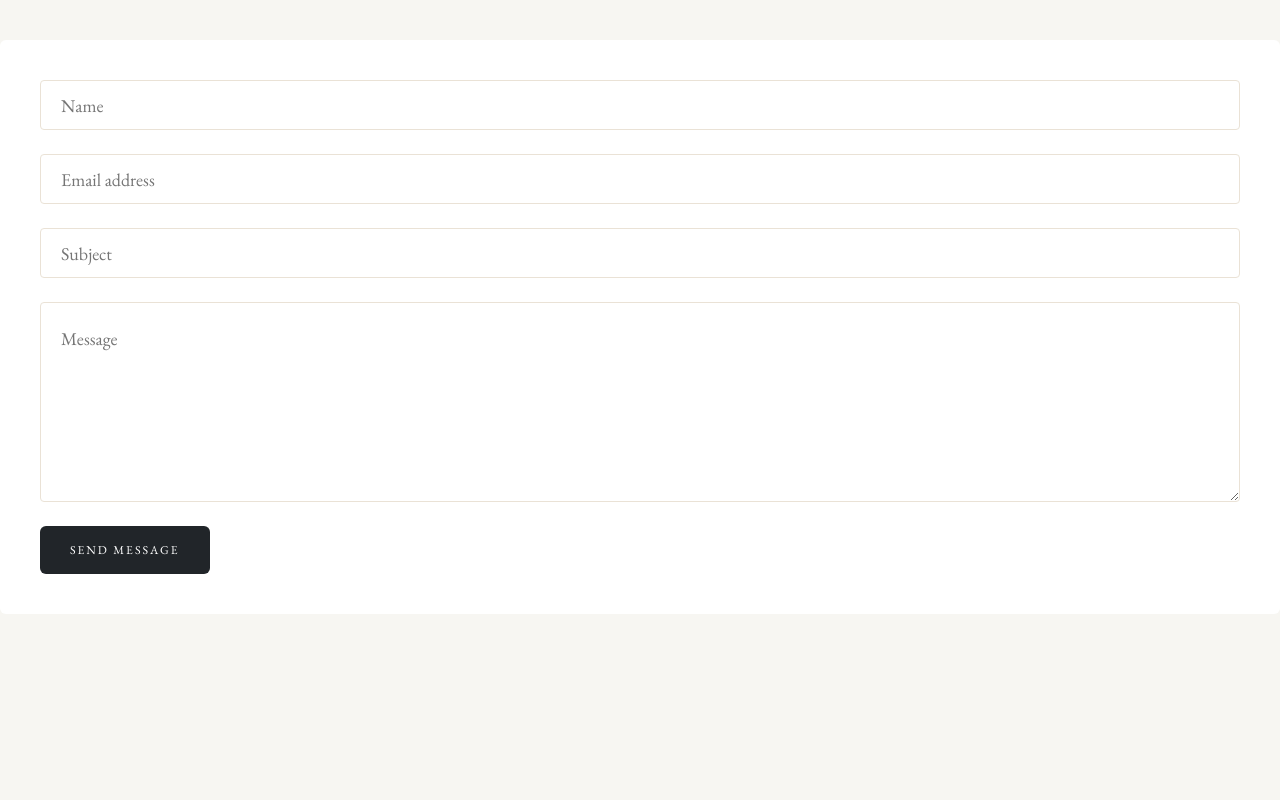
Test: ContactForm component › shows success notification for valid form submission
The image size is (1280, 800).
Step 1. Type "John Doe" into the field labelled "Name" → coordinates (640, 105), box [40,80,1240,130]
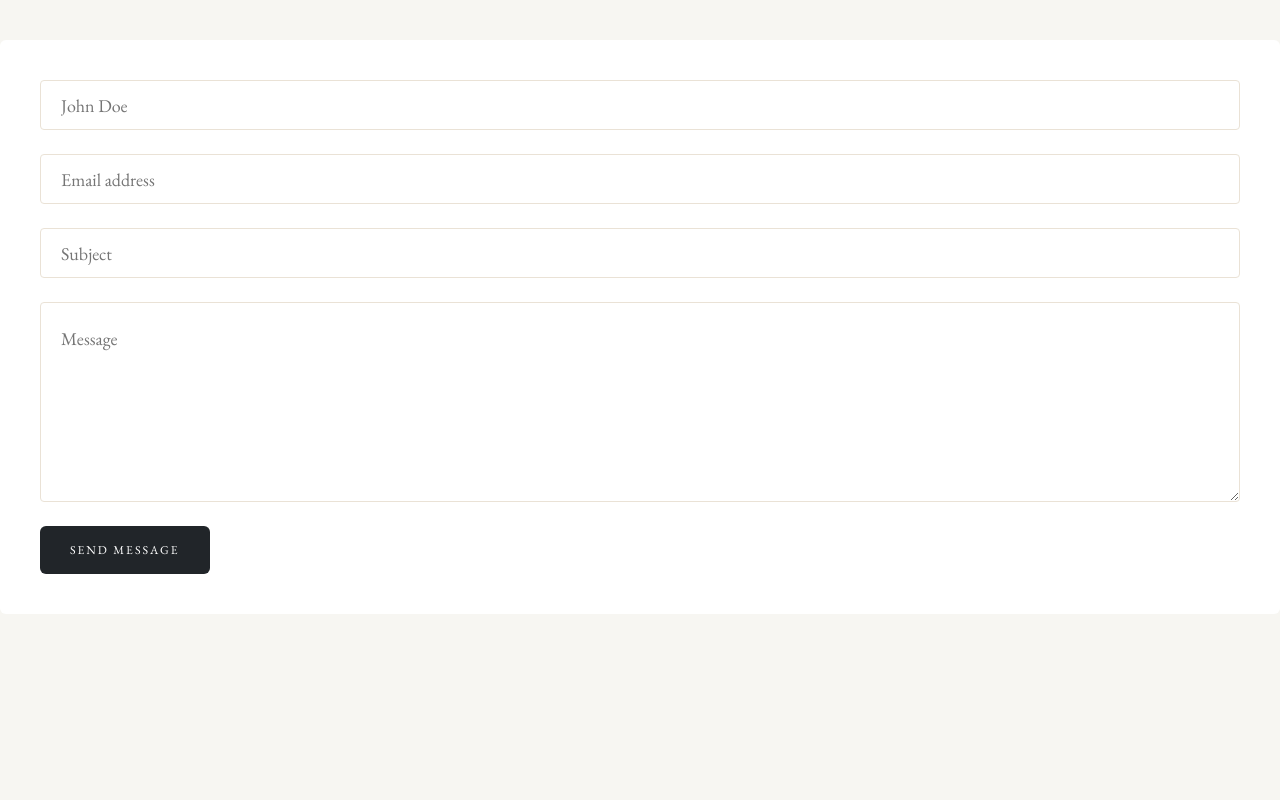
Step 2. Type "test@example.com" into the field labelled "Email address" → coordinates (640, 179), box [40,154,1240,204]
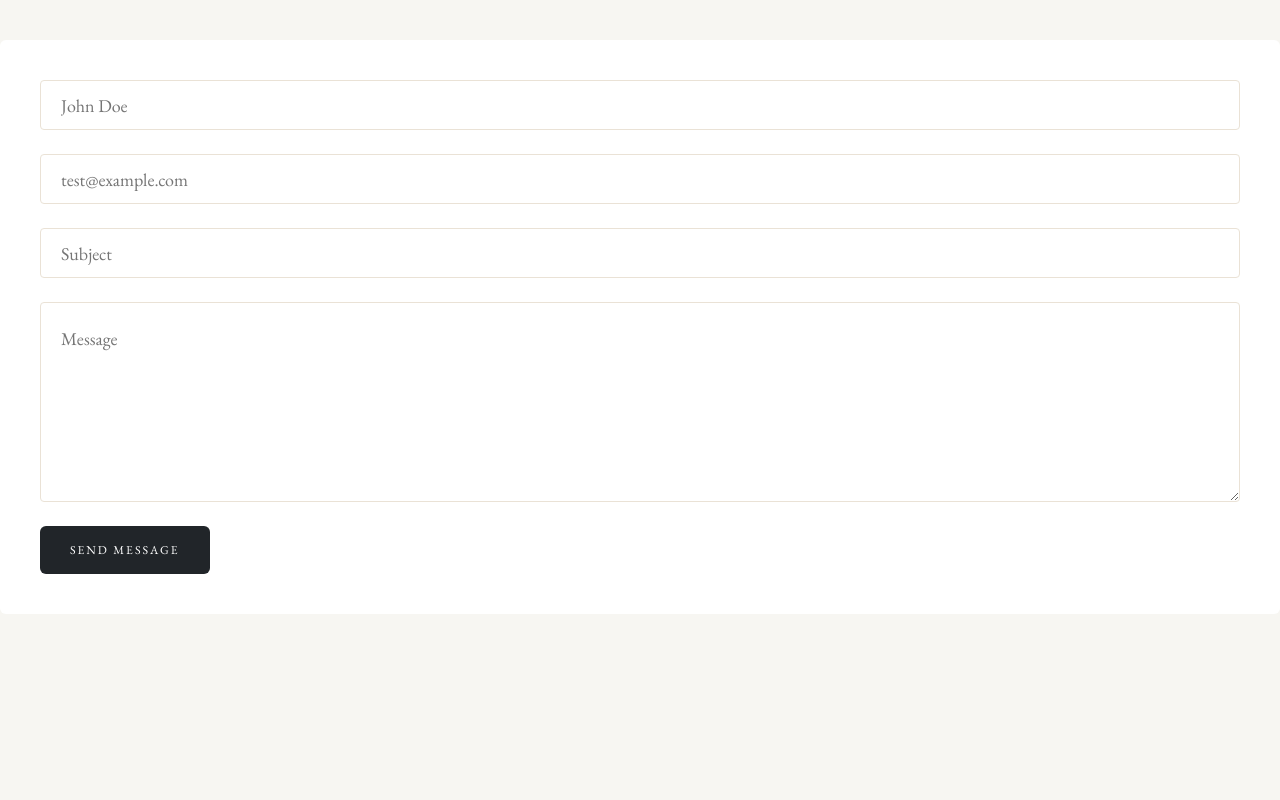
Step 3. Type "Test subject" into the field labelled "Subject" → coordinates (640, 253), box [40,228,1240,278]
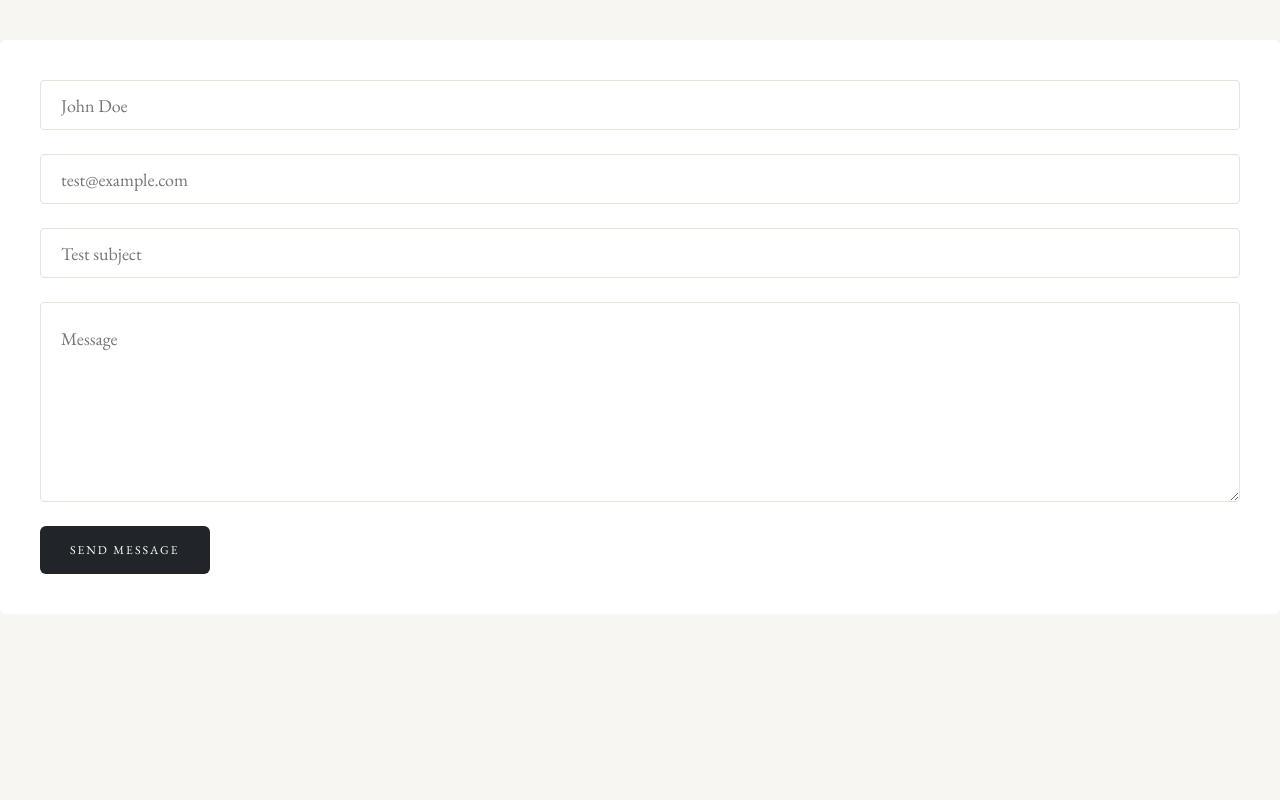
Step 4. Type "Test message" into the text box labelled "Message" → coordinates (640, 402), box [40,302,1240,502]
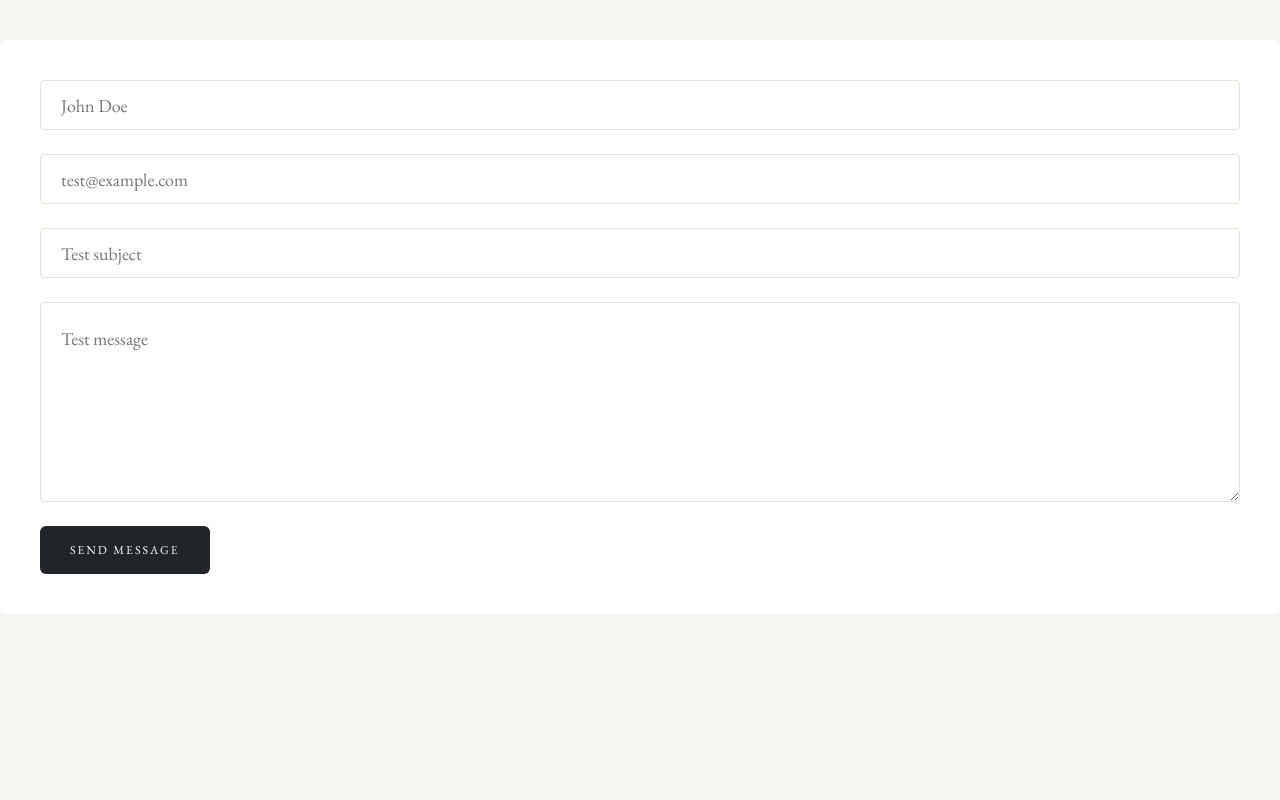
Step 5. Click the button "Send message" → coordinates (125, 550), box [40,526,210,574]
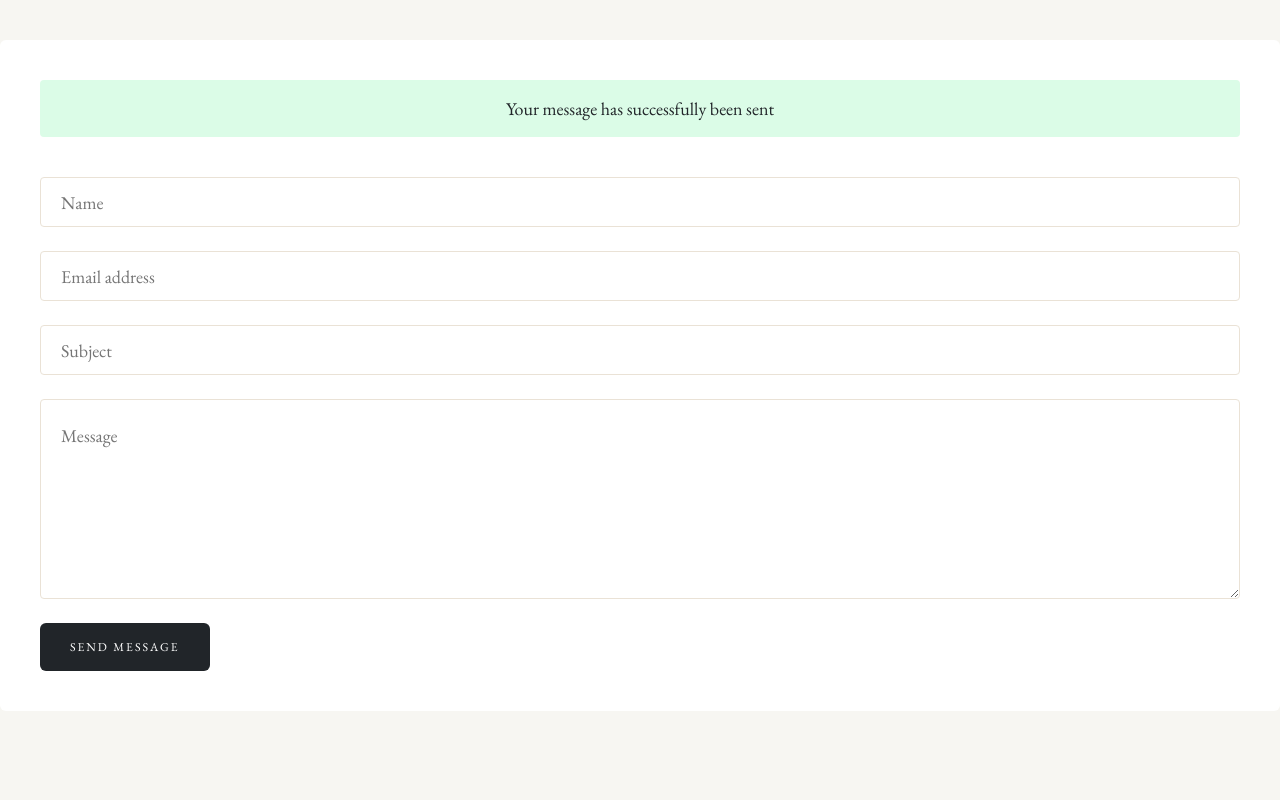
expect the message reads "Your message has successfully been sent": met, box [506,97,774,120]
